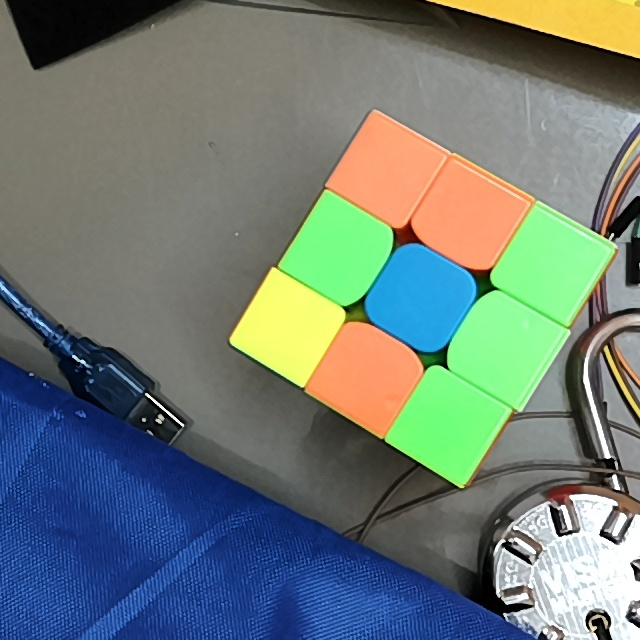tile: (388, 266, 454, 329), (470, 314, 535, 377), (335, 343, 398, 407), (438, 184, 500, 249), (520, 232, 583, 294), (417, 393, 479, 456), (310, 219, 374, 279), (356, 141, 417, 201), (259, 297, 315, 355)
